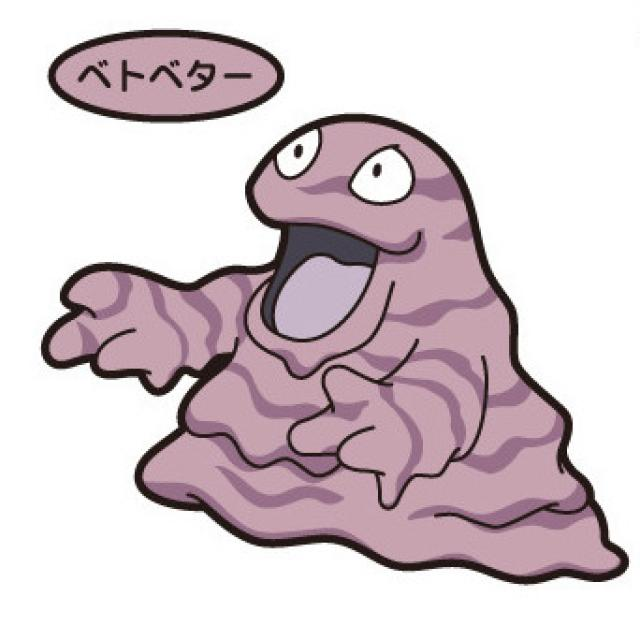Grimer: (35, 117, 624, 588)
